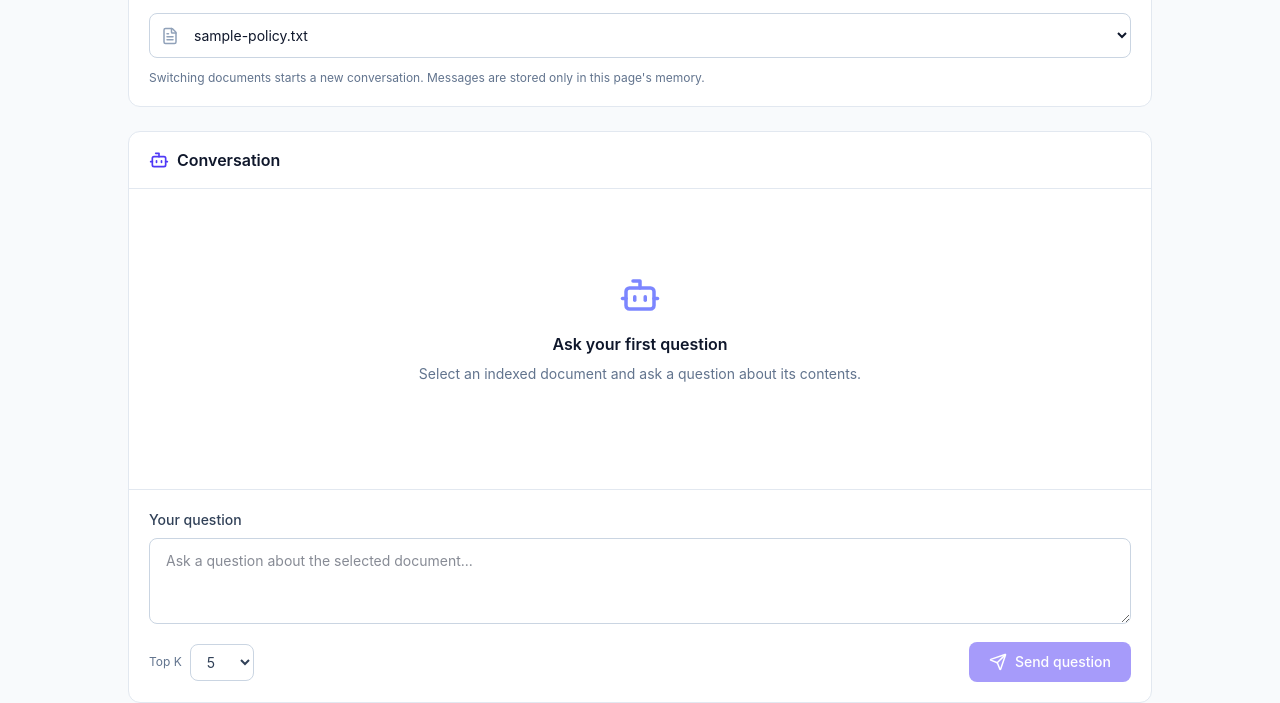
Test: ChatPage › displays an abstention when retrieval found context without an answer
(page scrolled)
Type "Which bank processes refunds?" into the text box labelled "Your question" at (640, 581), box x1=149 y1=538 x2=1131 y2=624
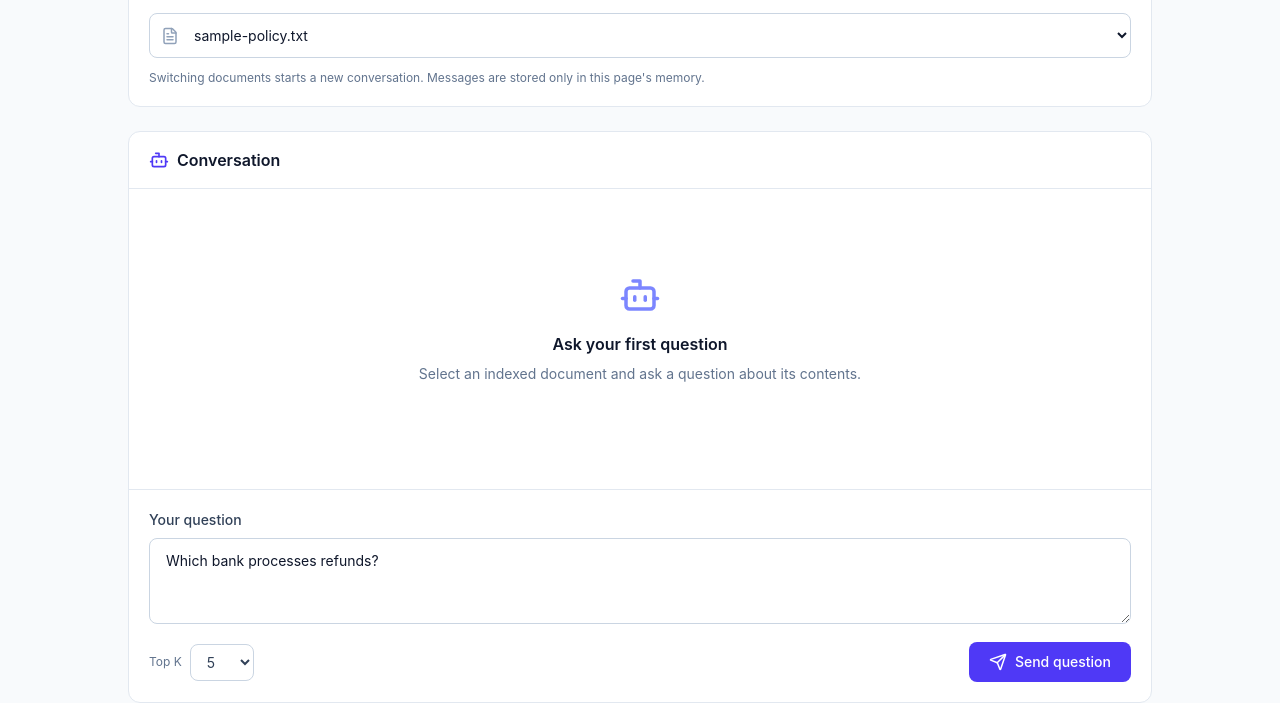
Click the button "Send question" at (1050, 662), box x1=969 y1=642 x2=1131 y2=682
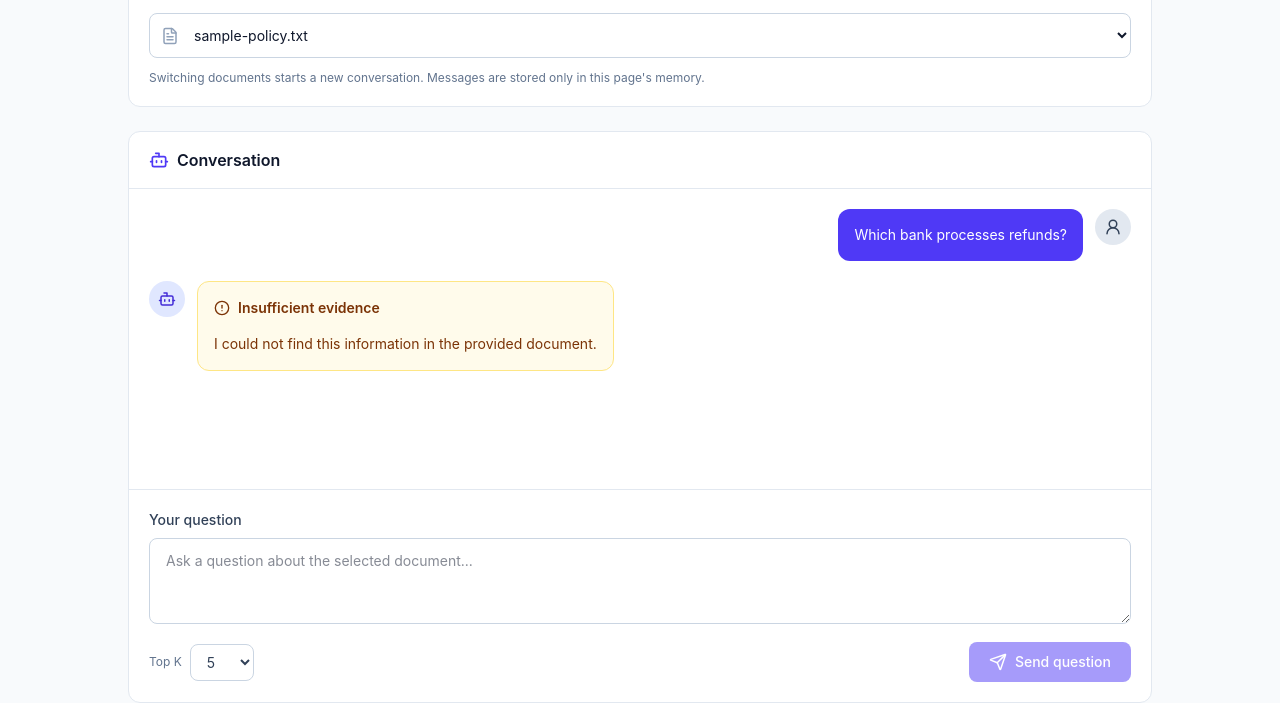
Check: the text "Insufficient evidence" is shown, box x1=214 y1=299 x2=380 y2=316
Check: the text "I could not find this information in the provided document." is shown, box x1=214 y1=330 x2=597 y2=358
